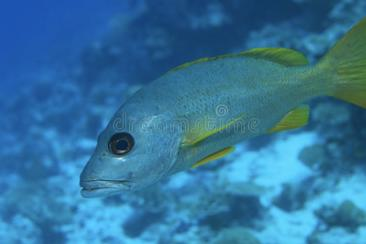Lutjanidae -Snappers-: (74, 3, 366, 202)
